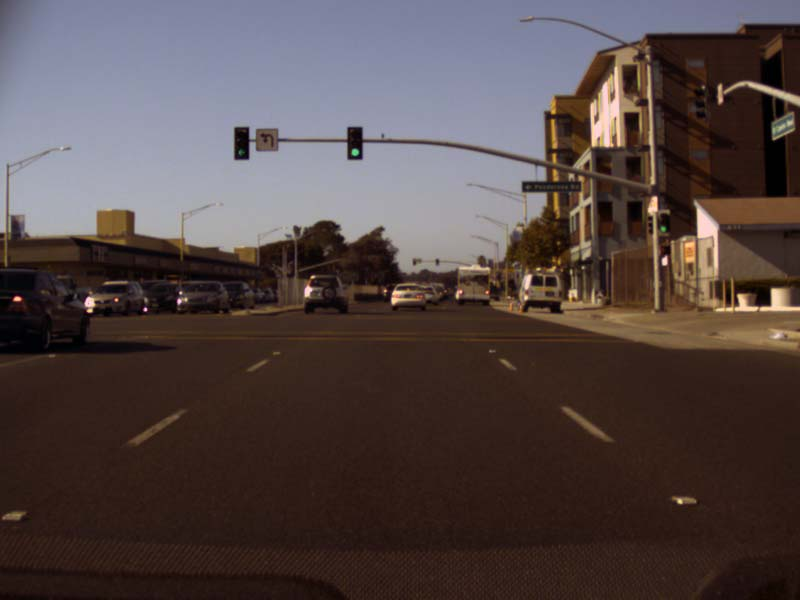Green: (346, 127, 361, 158), (234, 127, 248, 157), (659, 213, 668, 232)
